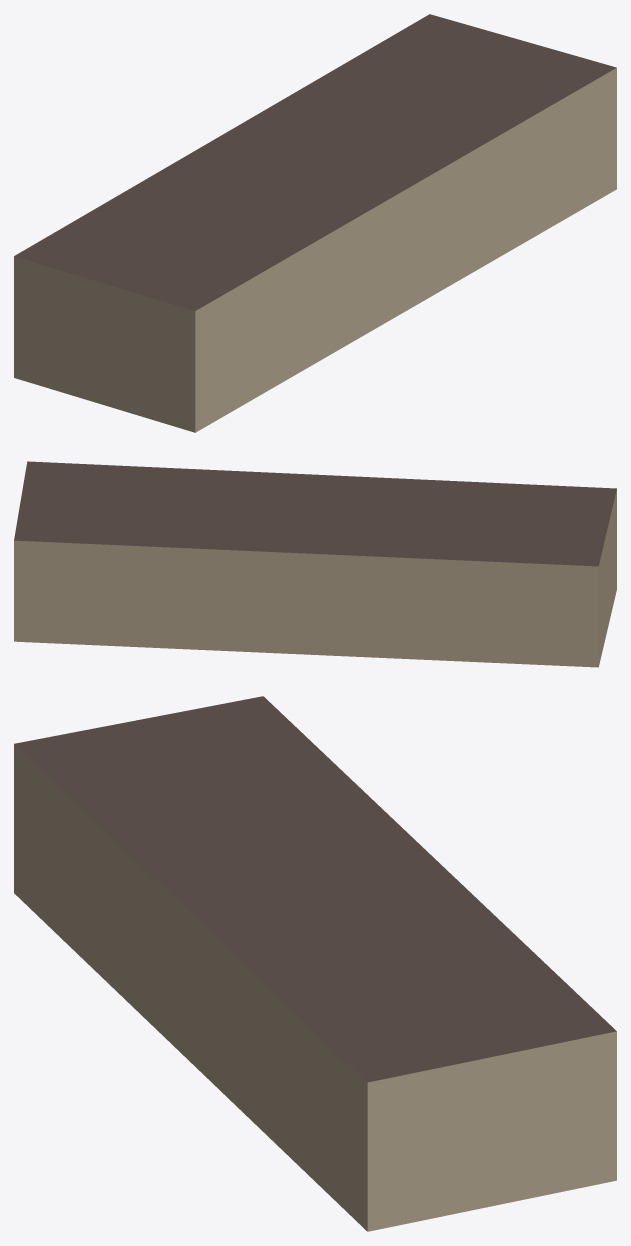
The picture shows the model from 3 angles, top to bottom: view 1: azimuth 30°, elevation 25°; view 2: azimuth 150°, elevation 25°; view 3: azimuth 270°, elevation 25°; orthographic projection. The views are drawn at different scales.
Parts seen in each view (by area): view 1: HP-w783664802; view 2: HP-w783664802; view 3: HP-w783664802.
Boxes of the visible parts, bbox=[...] form: HP-w783664802: bbox=[14, 14, 616, 432]; HP-w783664802: bbox=[14, 461, 616, 667]; HP-w783664802: bbox=[14, 696, 616, 1231].
Bounding box in the file's own units: 49.95 × 9 × 32.94.
